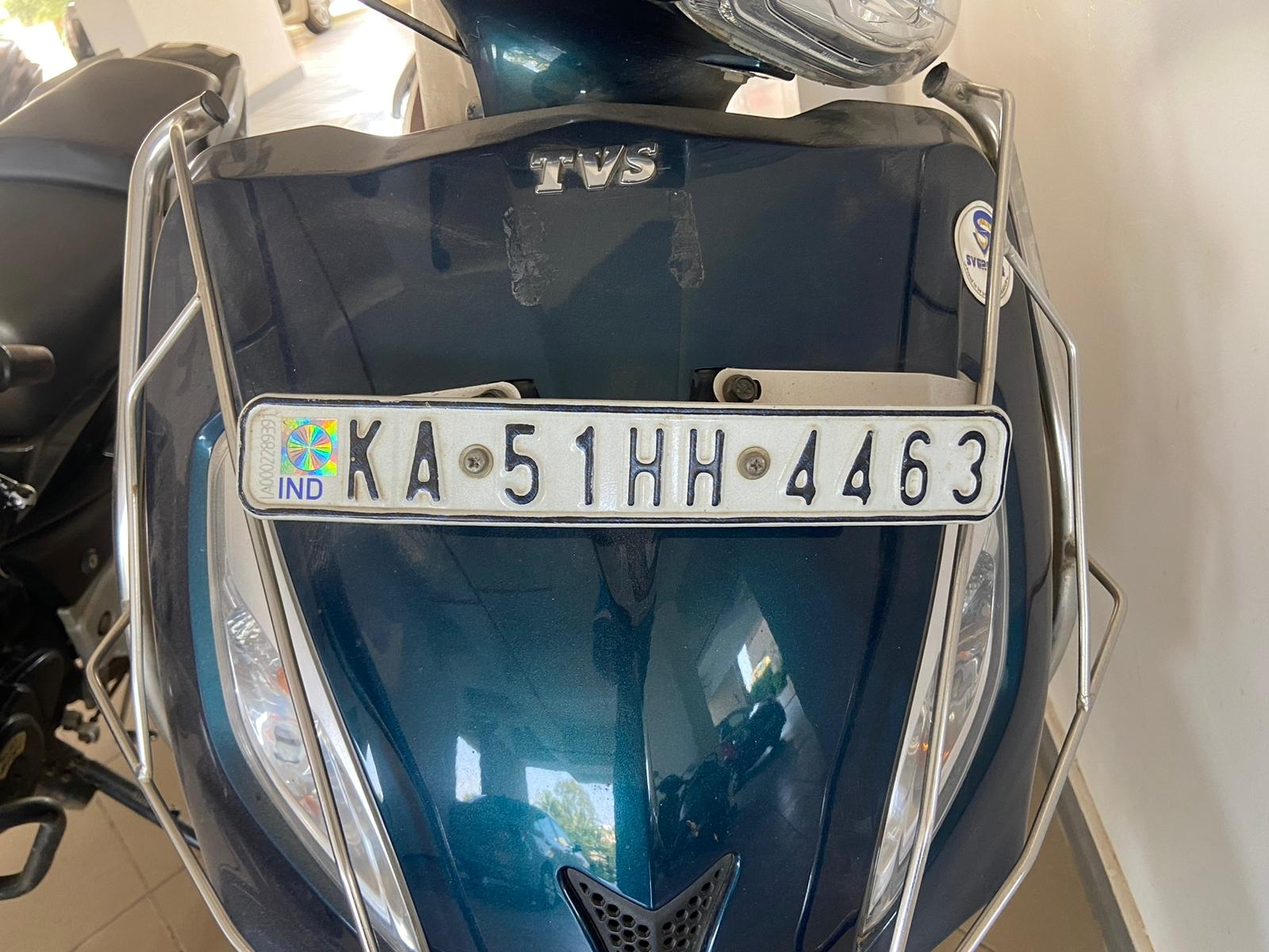1: (562, 411, 602, 516)
3: (944, 417, 996, 514)
4: (774, 411, 826, 517), (829, 413, 881, 519)
5: (490, 401, 551, 511)
6: (885, 419, 938, 511)
A: (393, 405, 464, 514)
H: (679, 415, 739, 517), (619, 409, 674, 516)
K: (335, 405, 385, 508)
